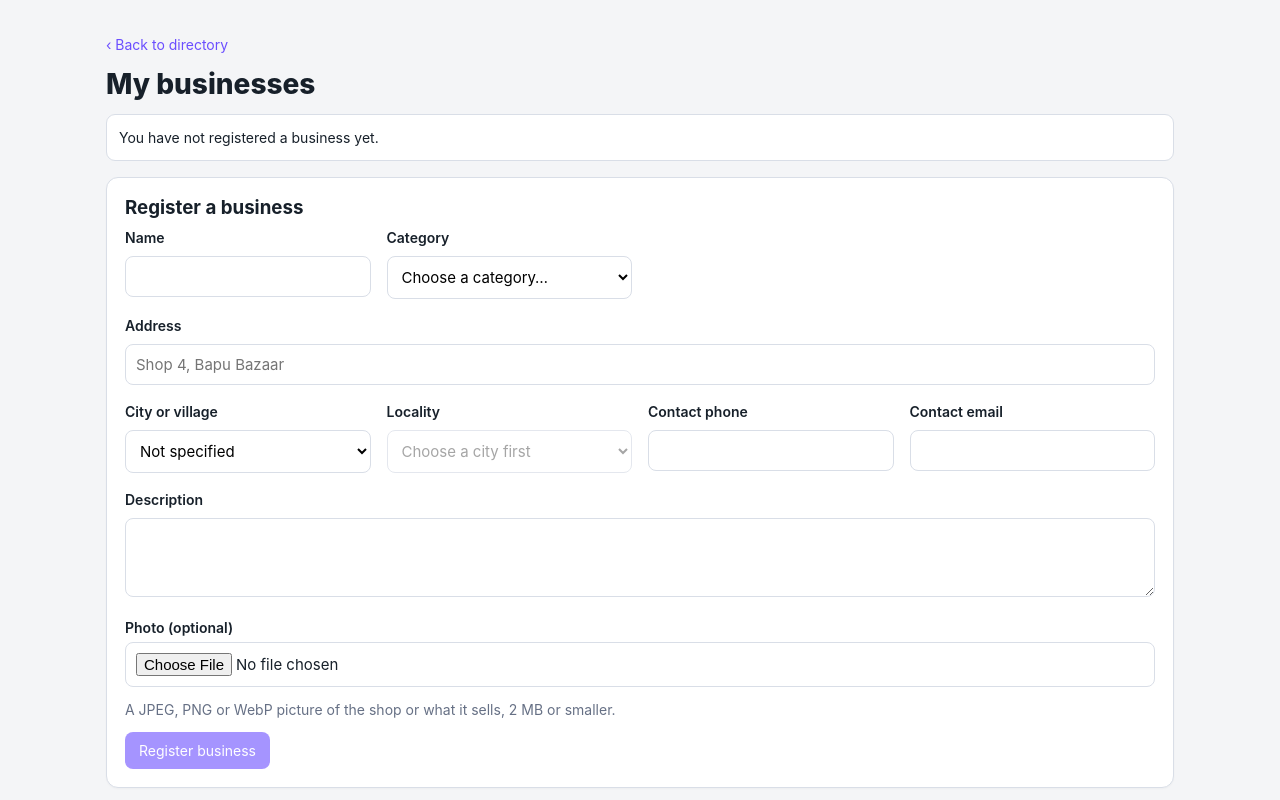
Scenario: MyBusinessesComponent › asks for the city or village, then only that city’s localities
Check: the dropdown with id "new-business-locality" is disabled, box [386, 430, 632, 473]
Select "Udaipur" in the dropdown with id "new-business-city" at x=248, y=452, box [125, 430, 370, 473]
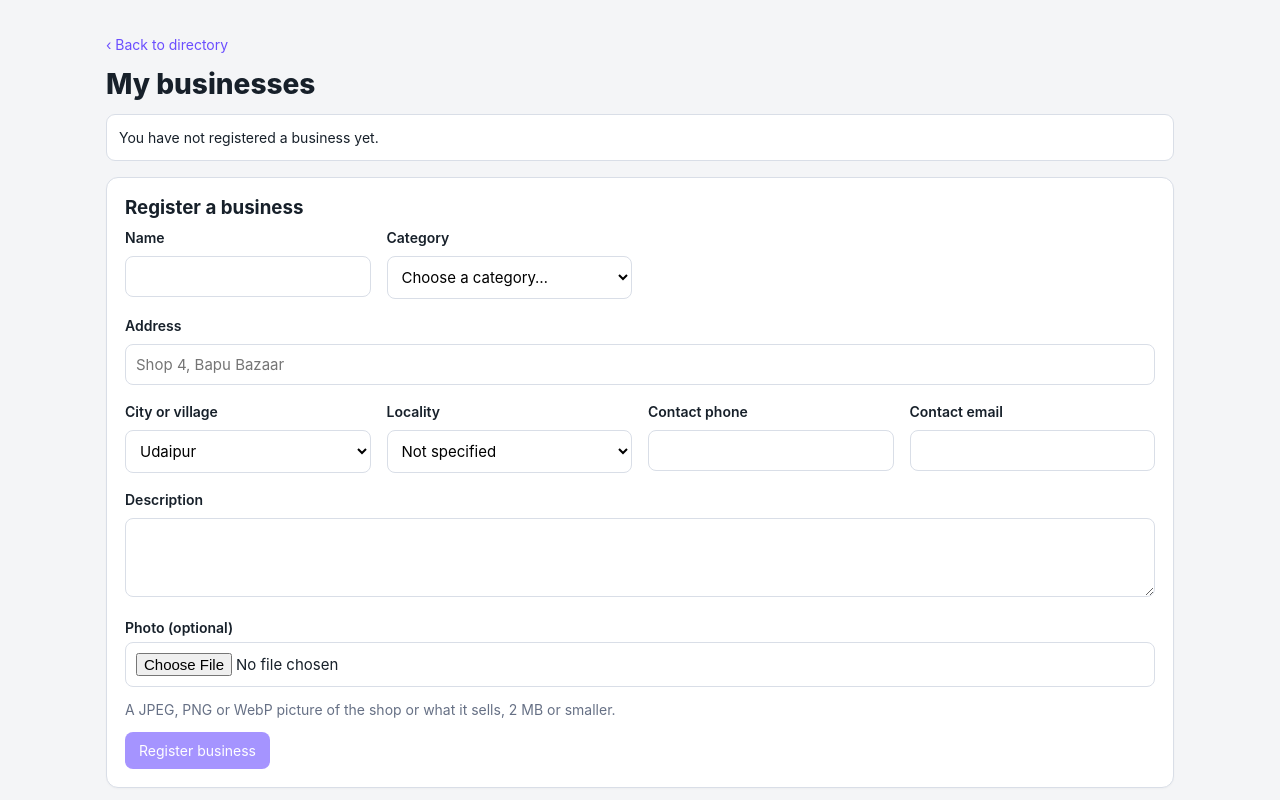
Check: the dropdown with id "new-business-locality" is enabled, box [386, 430, 632, 473]
